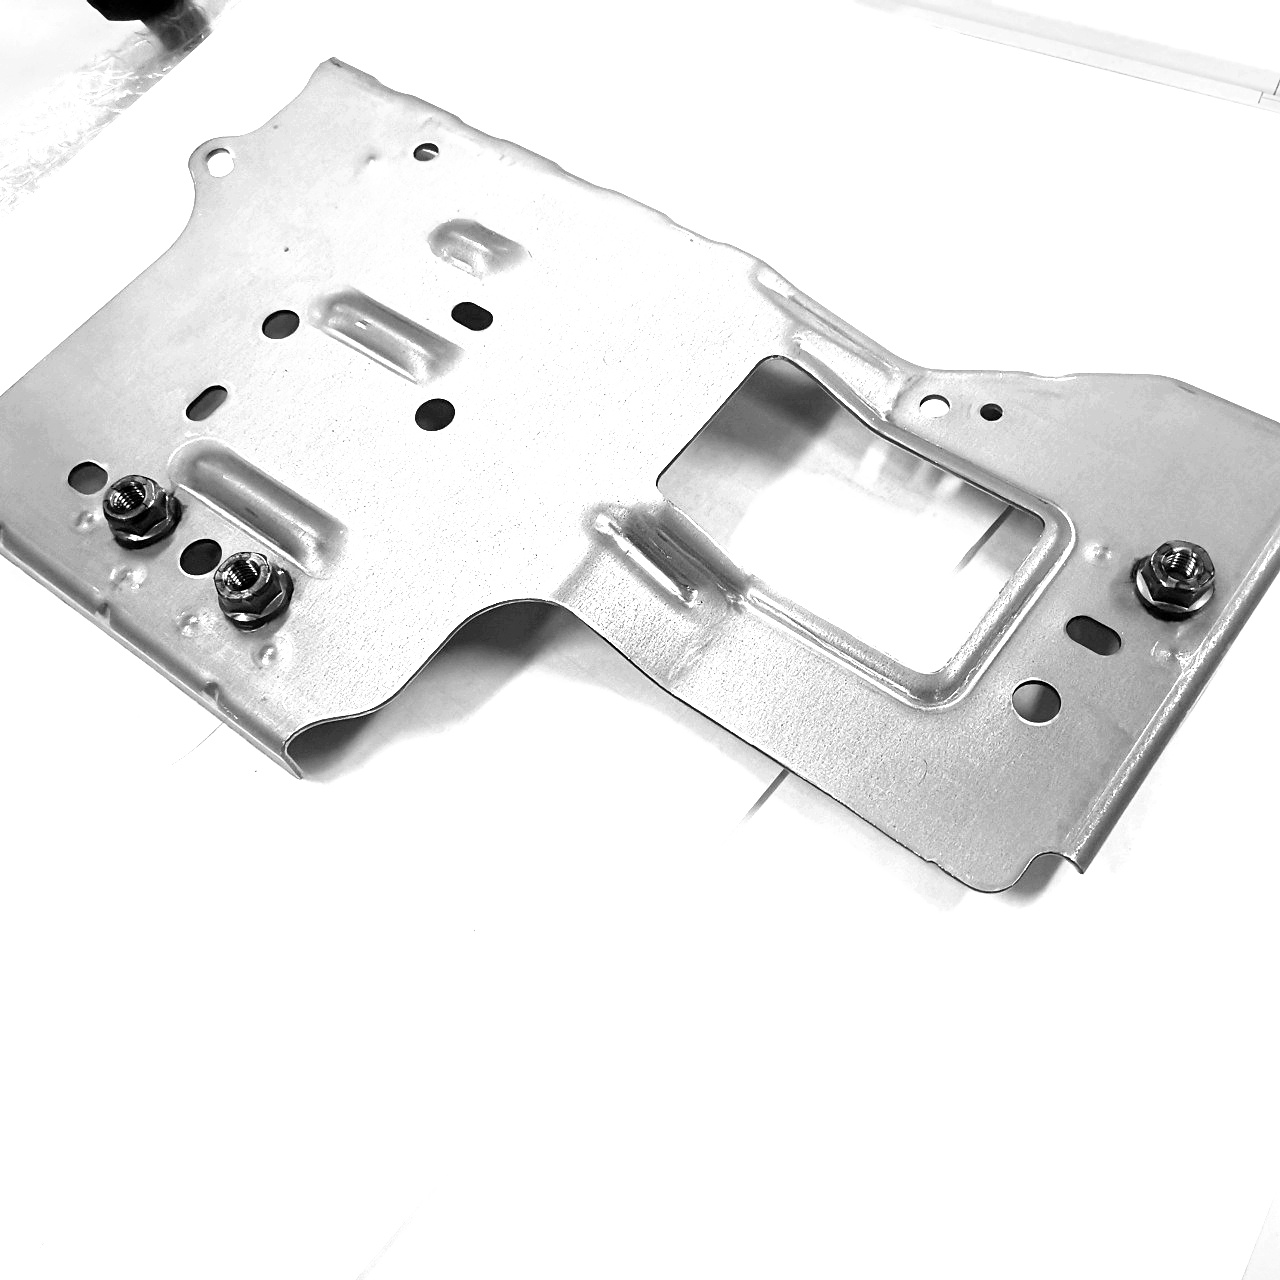dog: (1128, 538, 1223, 626), (210, 546, 300, 634), (98, 470, 188, 556)
